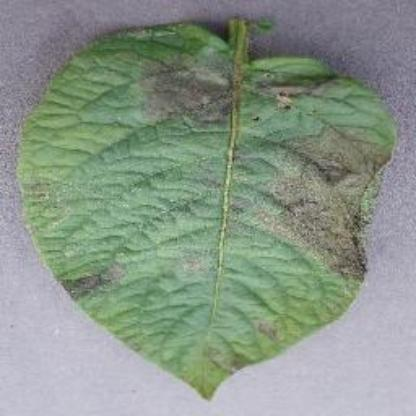Late-Blight: (16, 9, 392, 396)
